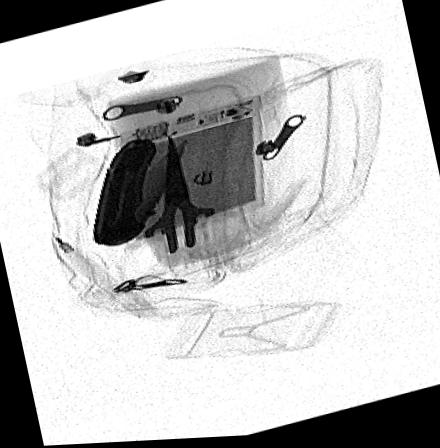Knife: (92, 137, 154, 247)
Powerbank: (120, 96, 263, 245)
Scissors: (112, 137, 251, 282)
